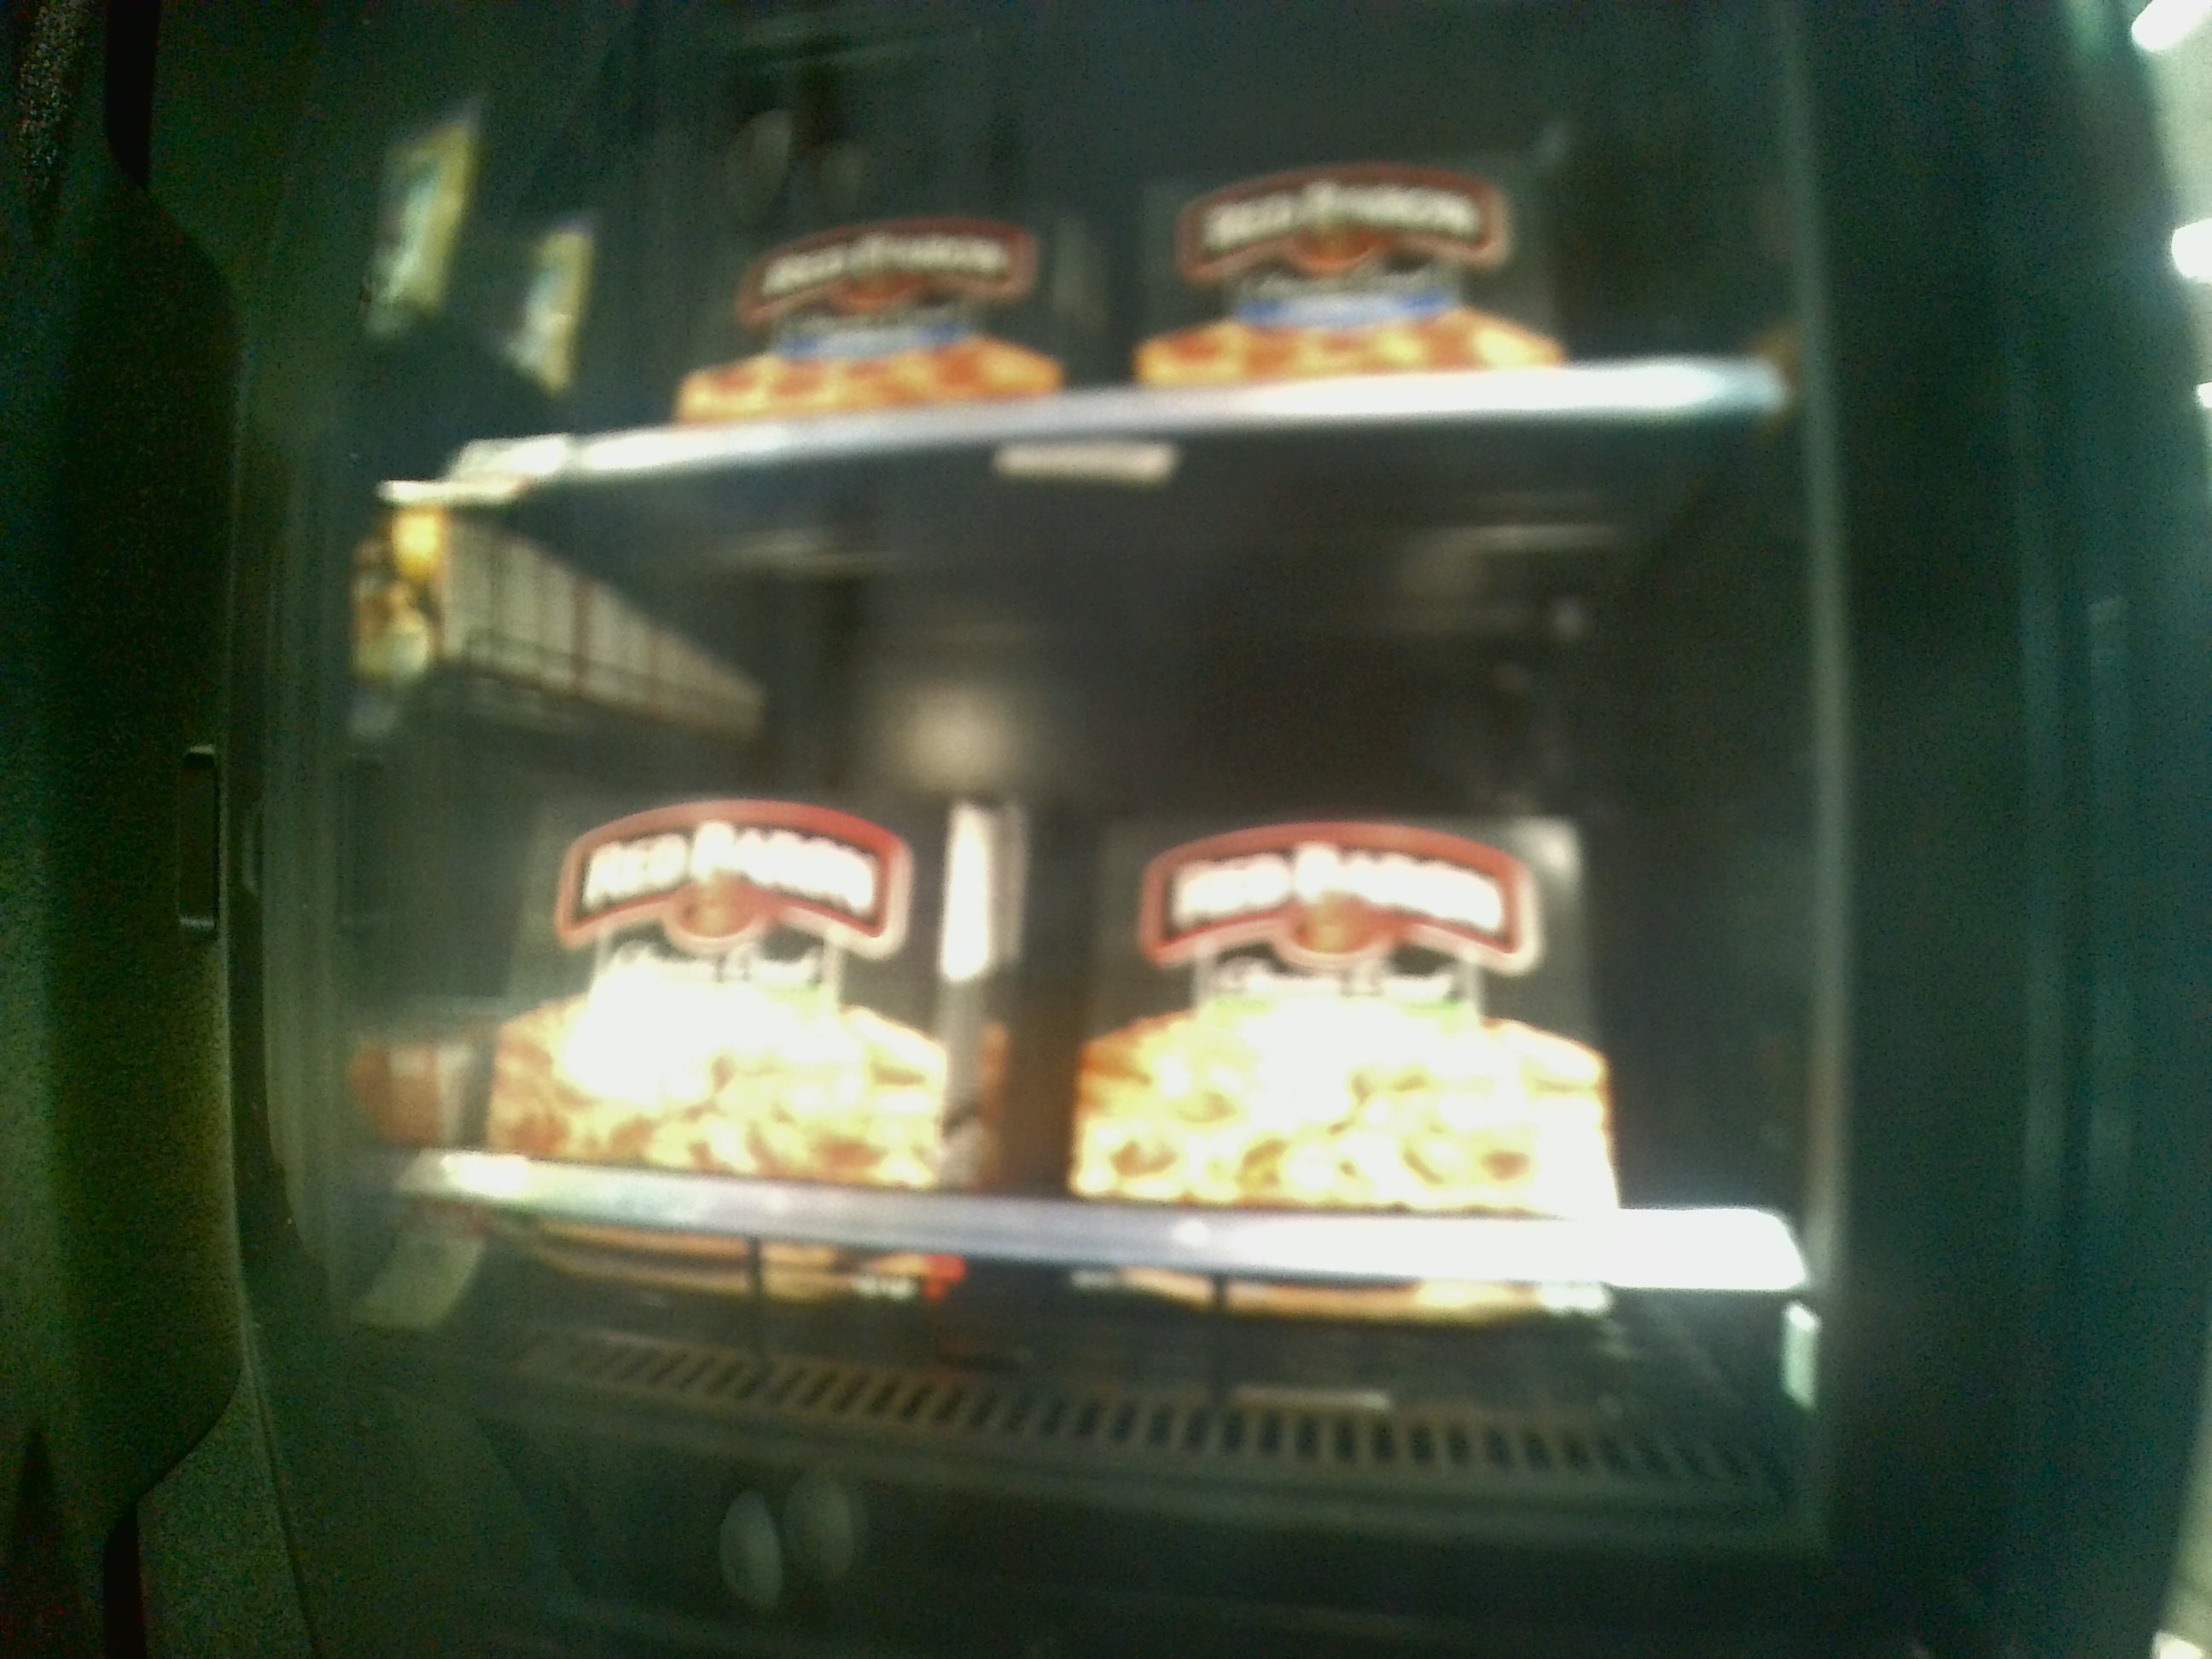shelf: (482, 493, 1782, 1493)
